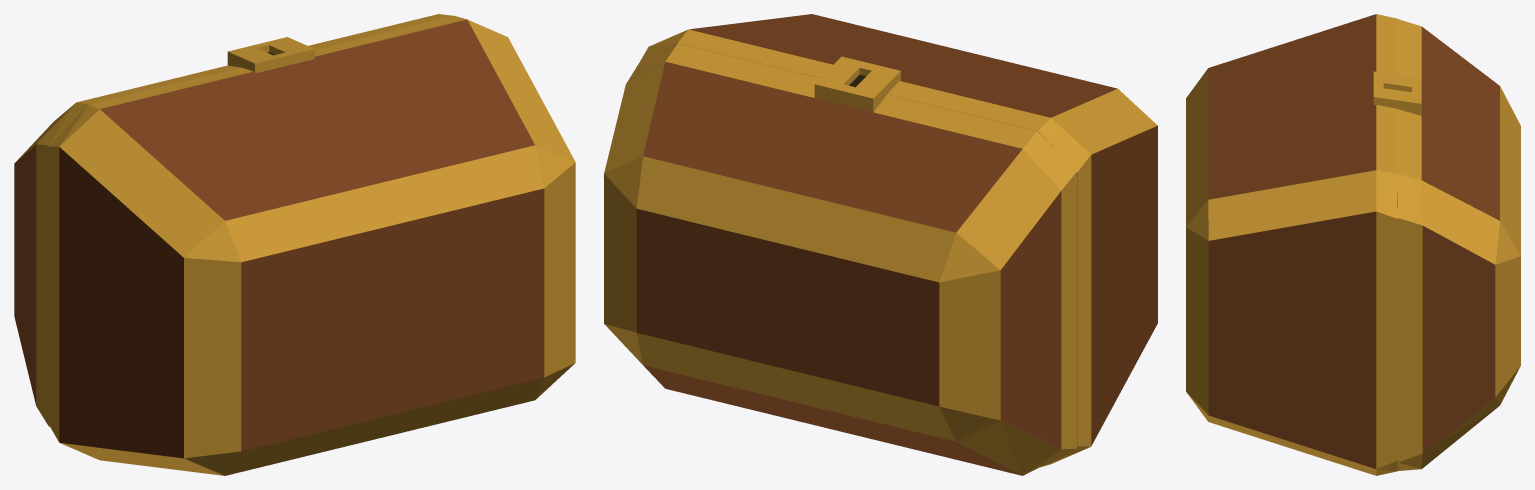
The model's file is Treasure Chest 01.FBX.
3 views of the same model, side by side, from view 1: azimuth 30°, elevation 25°; view 2: azimuth 150°, elevation 25°; view 3: azimuth 270°, elevation 25° (orthographic). The views are drawn at different scales.
Visible parts, largest first — view 1: Treasure Chest 01, Treasure Chest 01 Cover; view 2: Treasure Chest 01 Cover, Treasure Chest 01; view 3: Treasure Chest 01, Treasure Chest 01 Cover.
Boxes of the visible parts, box(x1,y1,x2,y2) form: Treasure Chest 01: box(48, 15, 575, 475); Treasure Chest 01 Cover: box(14, 14, 452, 426); Treasure Chest 01 Cover: box(604, 43, 1076, 475); Treasure Chest 01: box(639, 14, 1157, 467); Treasure Chest 01: box(1186, 14, 1397, 475); Treasure Chest 01 Cover: box(1373, 19, 1520, 470).
Size of the model in its own units: 95.02 by 72.87 by 70.5.
